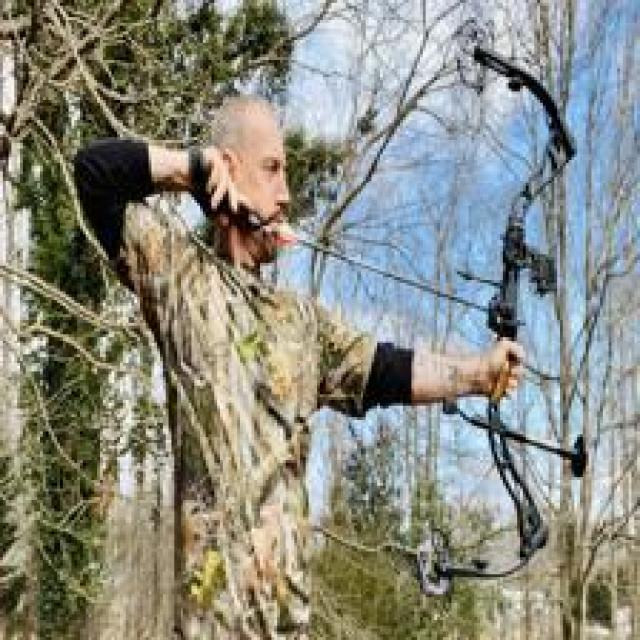X-Bow: (389, 19, 614, 602)
